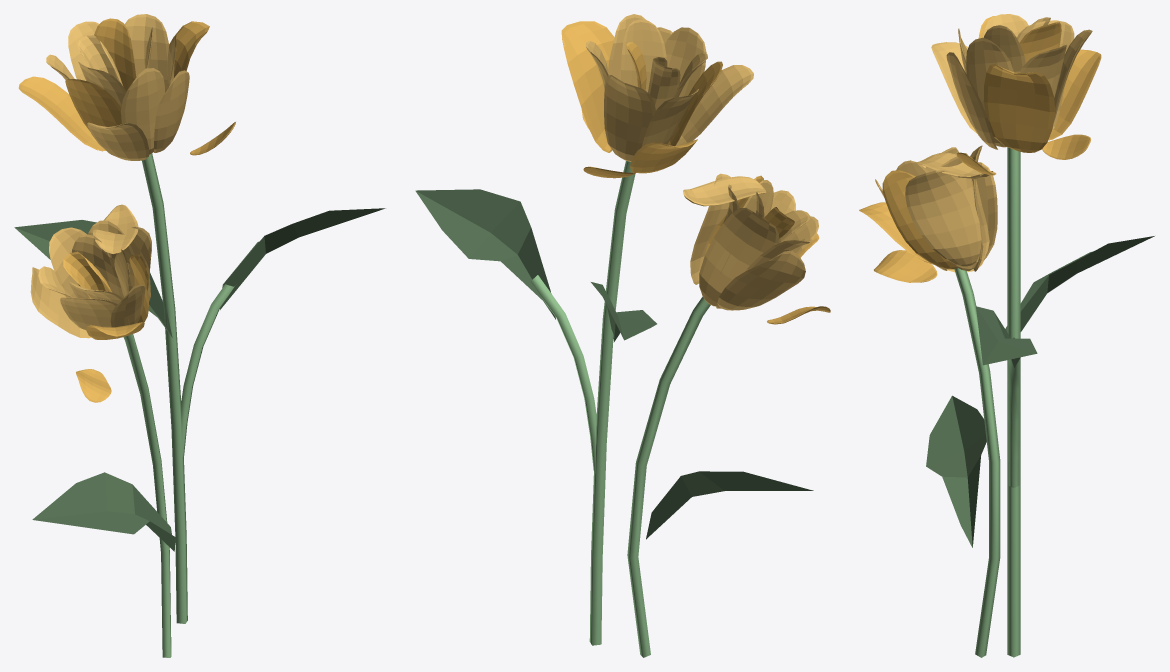
Rendered from roses3.glb.
3 views of the same model, side by side, from view 1: azimuth 30°, elevation 25°; view 2: azimuth 150°, elevation 25°; view 3: azimuth 270°, elevation 25° (orthographic). The views are drawn at different scales.
Parts seen in each view (by area): view 1: Plane.011; view 2: Plane.011; view 3: Plane.011.
Part boxes in pixels (x1,y1,x2,y2): Plane.011: (14,14,385,657); Plane.011: (415,14,830,657); Plane.011: (859,14,1154,657).
Bounding box in the file's own units: 4.59 × 7.37 × 3.16.
